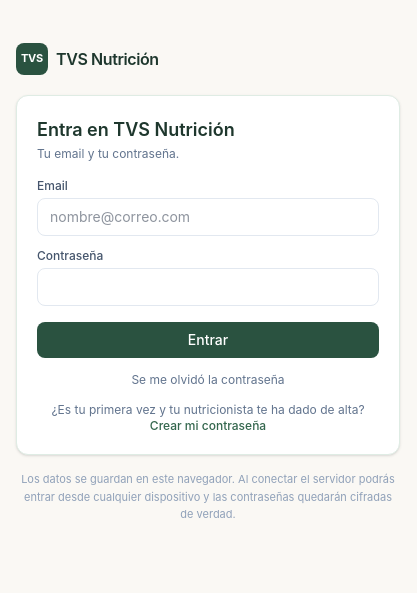
Scenario: Se me olvidó la contraseña › si la ficha no tiene fecha, lo dice en vez de dejarla colgada
This screenshot has width=417, height=593.
Click the button "Se me olvidó la contraseña" at (208, 380), box [131,372,285,388]
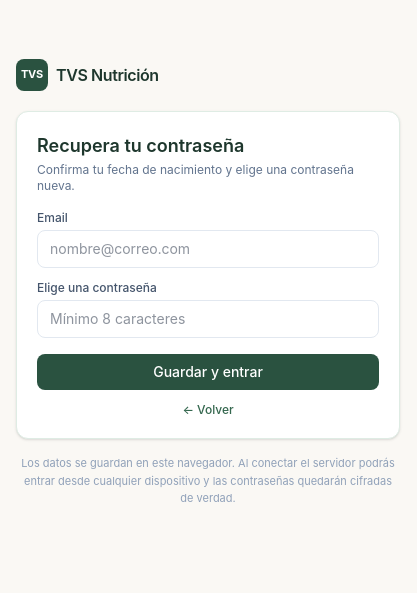
Type "vanessa@correo.com" into the field labelled "Email" at (208, 249), box [37,230,379,268]
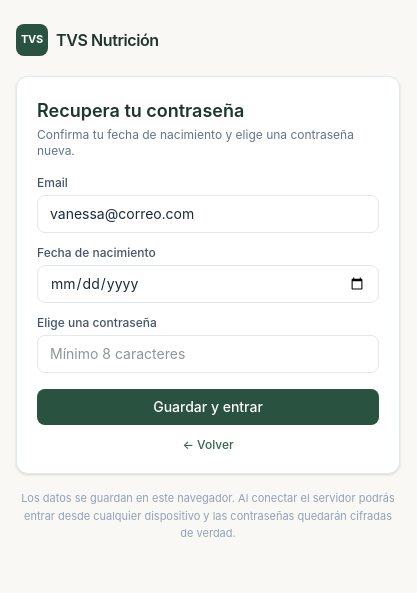
Type "1991-03-15" into the date field labelled "Fecha de nacimiento" at (208, 284), box [37,265,379,303]
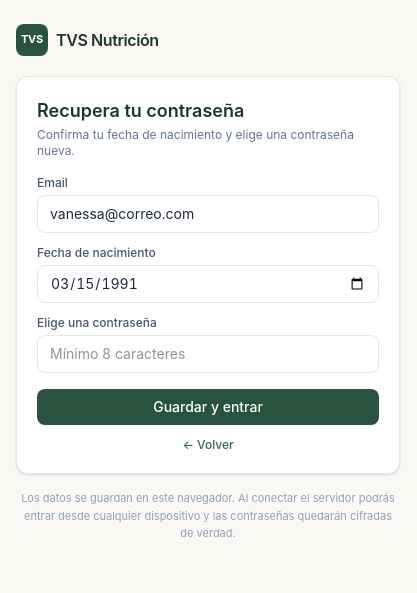
Type "nueva12345" into the password field labelled "Elige una contraseña" at (208, 354), box [37,335,379,373]
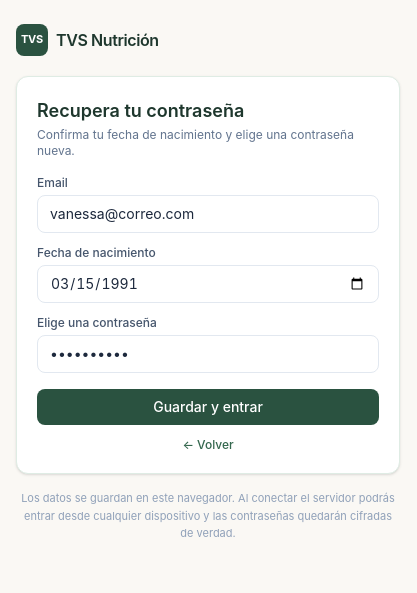
Click the button "Guardar y entrar" at (208, 407), box [37,389,379,425]
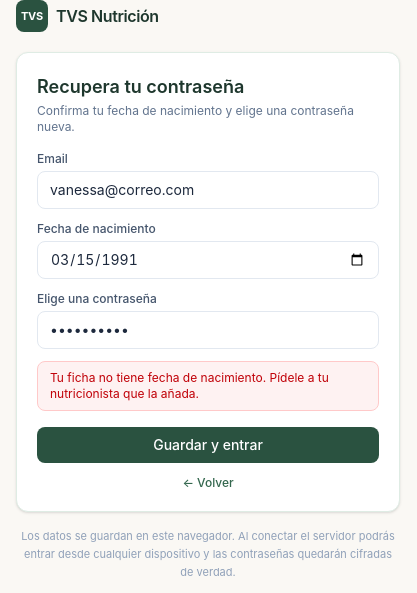
Check: the text "no tiene fecha de nacimiento" is shown, box [50,370,329,401]
